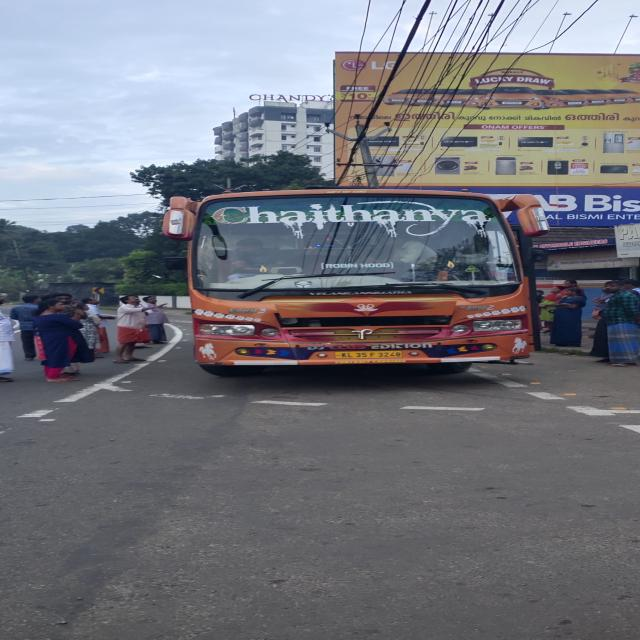Bus: (165, 189, 547, 375)
